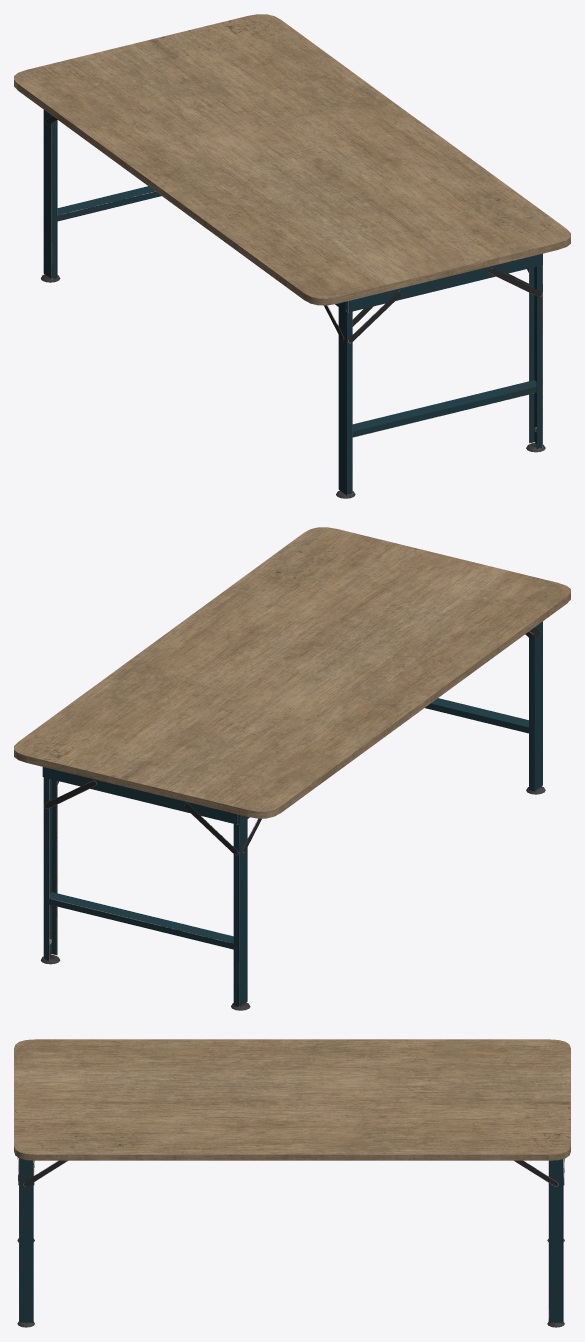
File: computerDesk.glb
The picture shows the model from 3 angles, top to bottom: view 1: azimuth 30°, elevation 25°; view 2: azimuth 150°, elevation 25°; view 3: azimuth 270°, elevation 25°; orthographic projection. The views are drawn at different scales.
Visible parts, largest first — view 1: work_bench_work_bench_0; view 2: work_bench_work_bench_0; view 3: work_bench_work_bench_0.
Part boxes in pixels (x1,y1,x2,y2): work_bench_work_bench_0: [14, 14, 570, 498]; work_bench_work_bench_0: [14, 527, 570, 1010]; work_bench_work_bench_0: [14, 1039, 570, 1327].
Size of the model in its own units: 0.6829 by 0.5122 by 1.4.
1 material, 1 textured.
